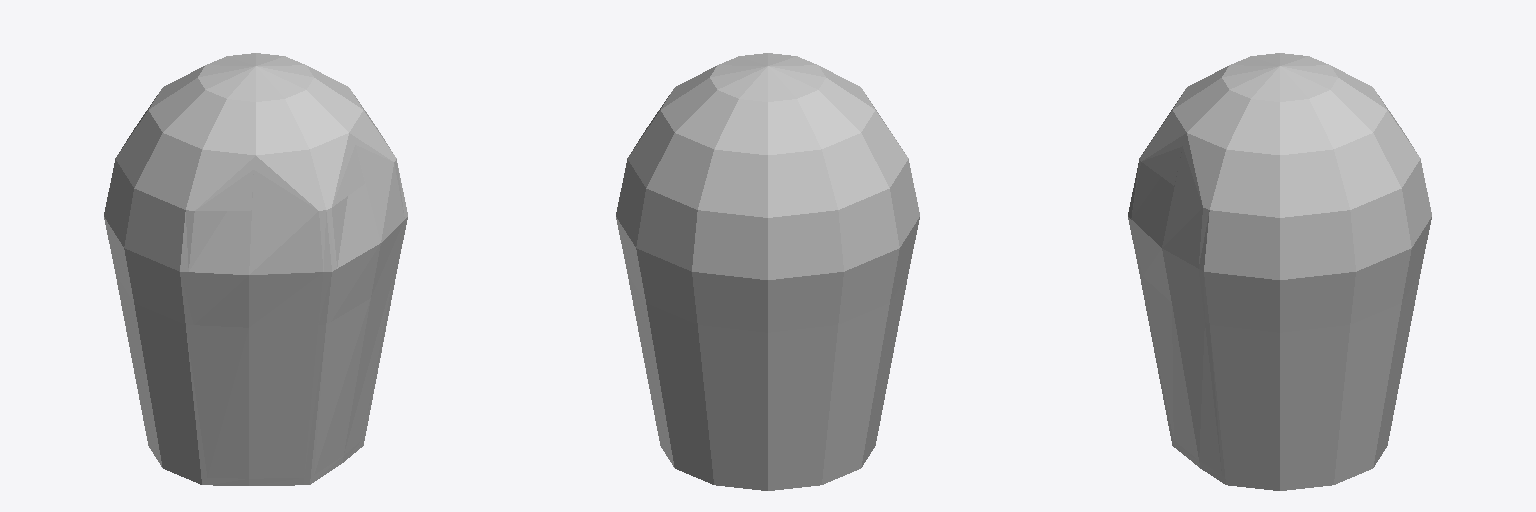
Rendered from dummyhead.obj.
The picture shows the model from 3 angles: view 1: azimuth 30°, elevation 25°; view 2: azimuth 150°, elevation 25°; view 3: azimuth 270°, elevation 25°; orthographic projection.
Parts seen in each view (by area): view 1: dummy_hips3_dummy_belly_dummy_torso_dummy_neck_dummy_headq.001; view 2: dummy_hips3_dummy_belly_dummy_torso_dummy_neck_dummy_headq.001; view 3: dummy_hips3_dummy_belly_dummy_torso_dummy_neck_dummy_headq.001.
Boxes of the visible parts, box(x1,y1,x2,y2) form: dummy_hips3_dummy_belly_dummy_torso_dummy_neck_dummy_headq.001: box(104, 53, 407, 485); dummy_hips3_dummy_belly_dummy_torso_dummy_neck_dummy_headq.001: box(616, 53, 919, 490); dummy_hips3_dummy_belly_dummy_torso_dummy_neck_dummy_headq.001: box(1128, 53, 1431, 490).
Bounding box in the file's own units: 18.38 × 25.28 × 18.38.